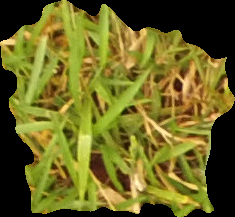grass: (1, 1, 234, 216)
